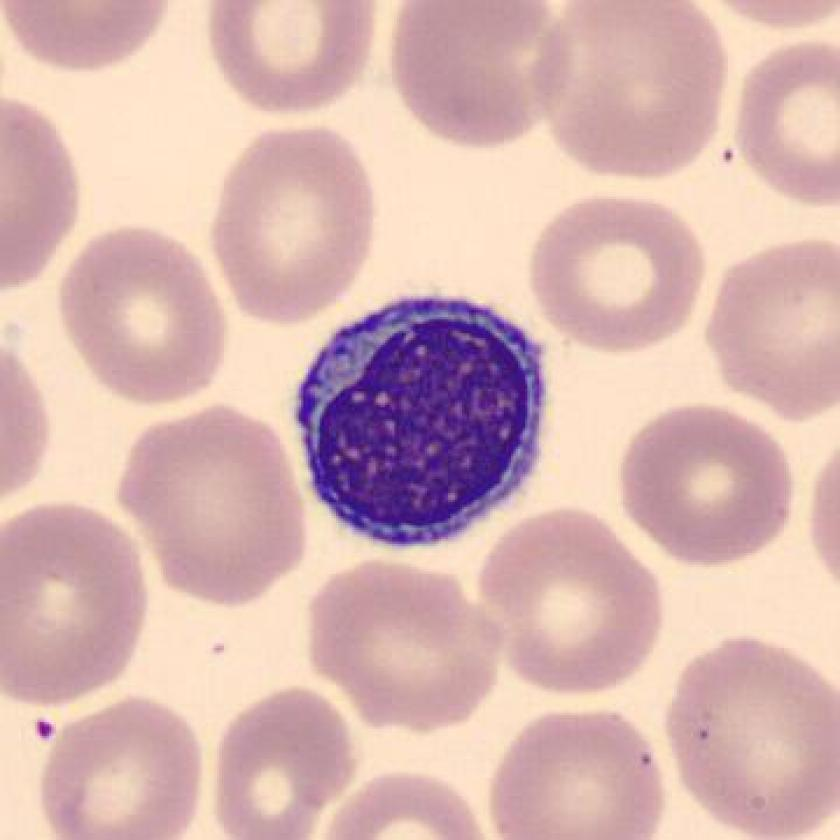lymphocyte: (269, 272, 566, 573)
